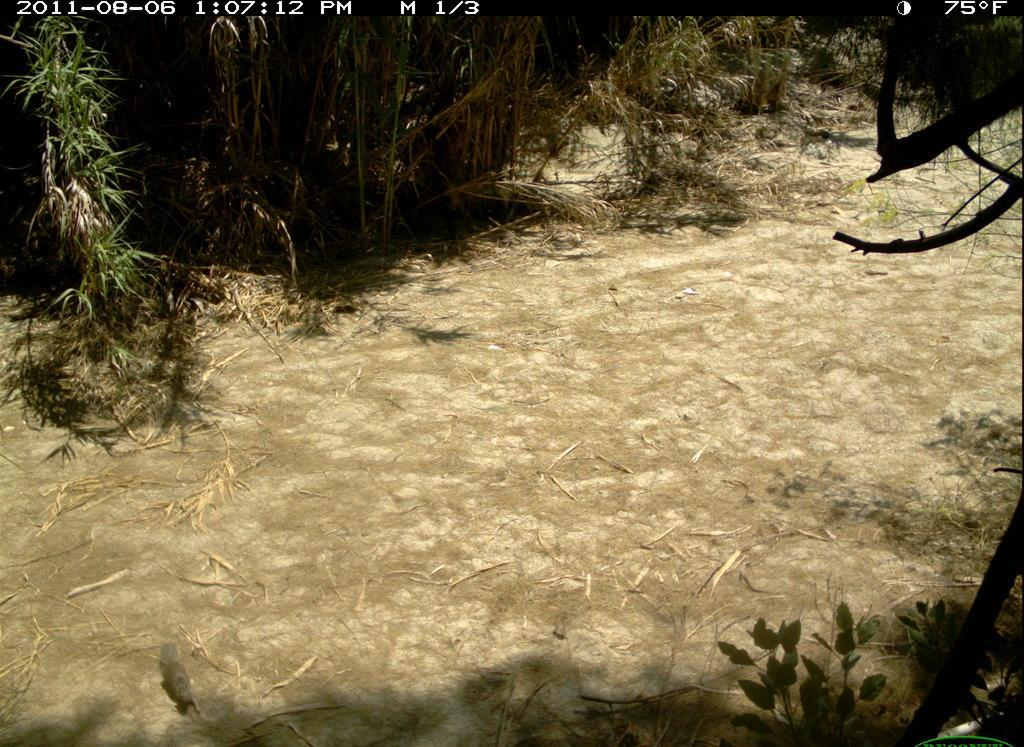squirrel: (157, 637, 205, 718)
